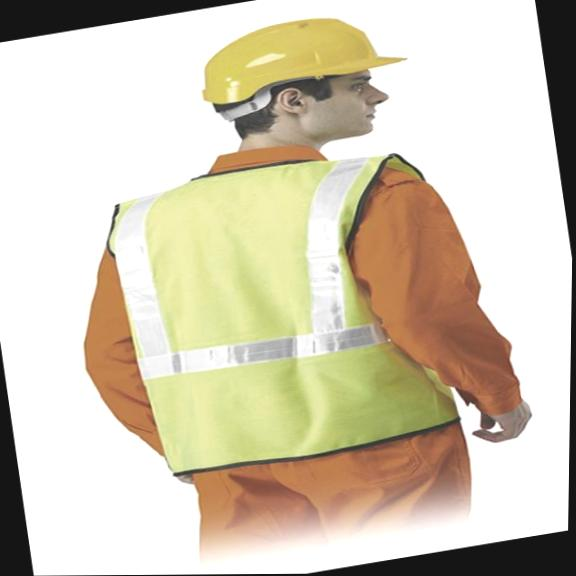safety_vest: (98, 136, 470, 485)
